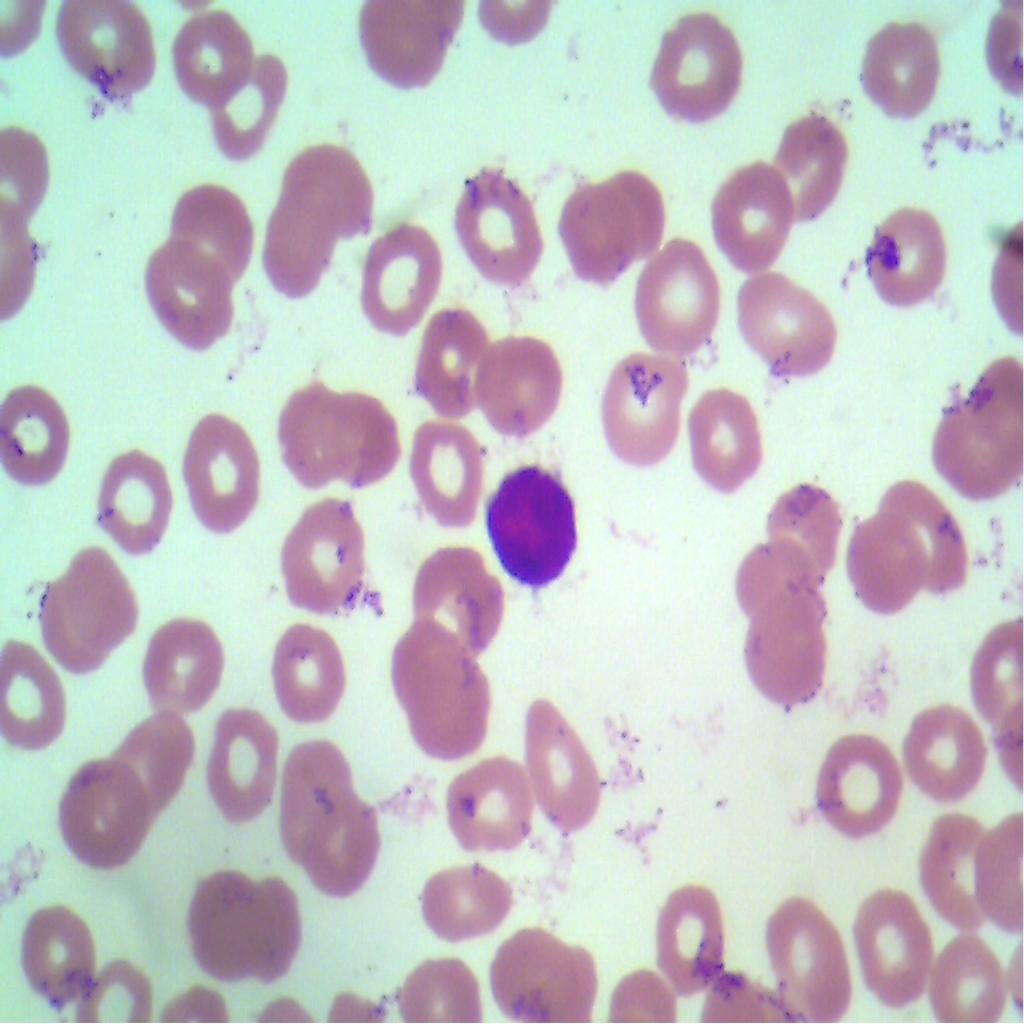Eritrosit: (270, 495, 376, 621), (653, 12, 758, 138), (594, 351, 694, 477), (849, 192, 950, 315), (38, 551, 138, 674), (882, 472, 975, 602), (449, 161, 544, 288), (844, 11, 946, 128), (630, 225, 720, 357), (526, 691, 606, 835), (202, 694, 286, 829), (766, 895, 853, 1023), (404, 655, 504, 765), (709, 157, 804, 272), (410, 534, 501, 654), (738, 271, 838, 379), (182, 406, 266, 534), (46, 0, 158, 95), (141, 242, 236, 354), (851, 881, 934, 1005), (483, 918, 581, 1023), (278, 142, 369, 254), (422, 845, 518, 950), (112, 704, 198, 821), (678, 385, 770, 494), (63, 755, 148, 872), (96, 438, 178, 559), (931, 385, 1009, 511), (474, 328, 563, 438), (274, 372, 356, 491), (898, 696, 988, 804), (0, 634, 78, 758), (438, 751, 538, 847), (169, 177, 256, 287), (819, 726, 904, 838), (915, 814, 999, 927), (138, 611, 226, 718), (182, 864, 263, 980), (406, 417, 486, 534), (771, 111, 858, 218), (358, 215, 436, 334), (15, 885, 91, 1004), (309, 791, 386, 908), (839, 509, 926, 611), (732, 532, 818, 635), (270, 625, 350, 735), (258, 195, 334, 308), (742, 602, 831, 698), (0, 378, 76, 490), (415, 308, 494, 415), (171, 10, 258, 104), (650, 878, 722, 991), (211, 58, 293, 154), (278, 734, 350, 841), (762, 482, 844, 575), (323, 394, 402, 488), (930, 931, 1009, 1023), (392, 624, 474, 711), (566, 183, 634, 287), (236, 881, 304, 980), (598, 158, 664, 255)
Limfoblast: (478, 461, 582, 584)
